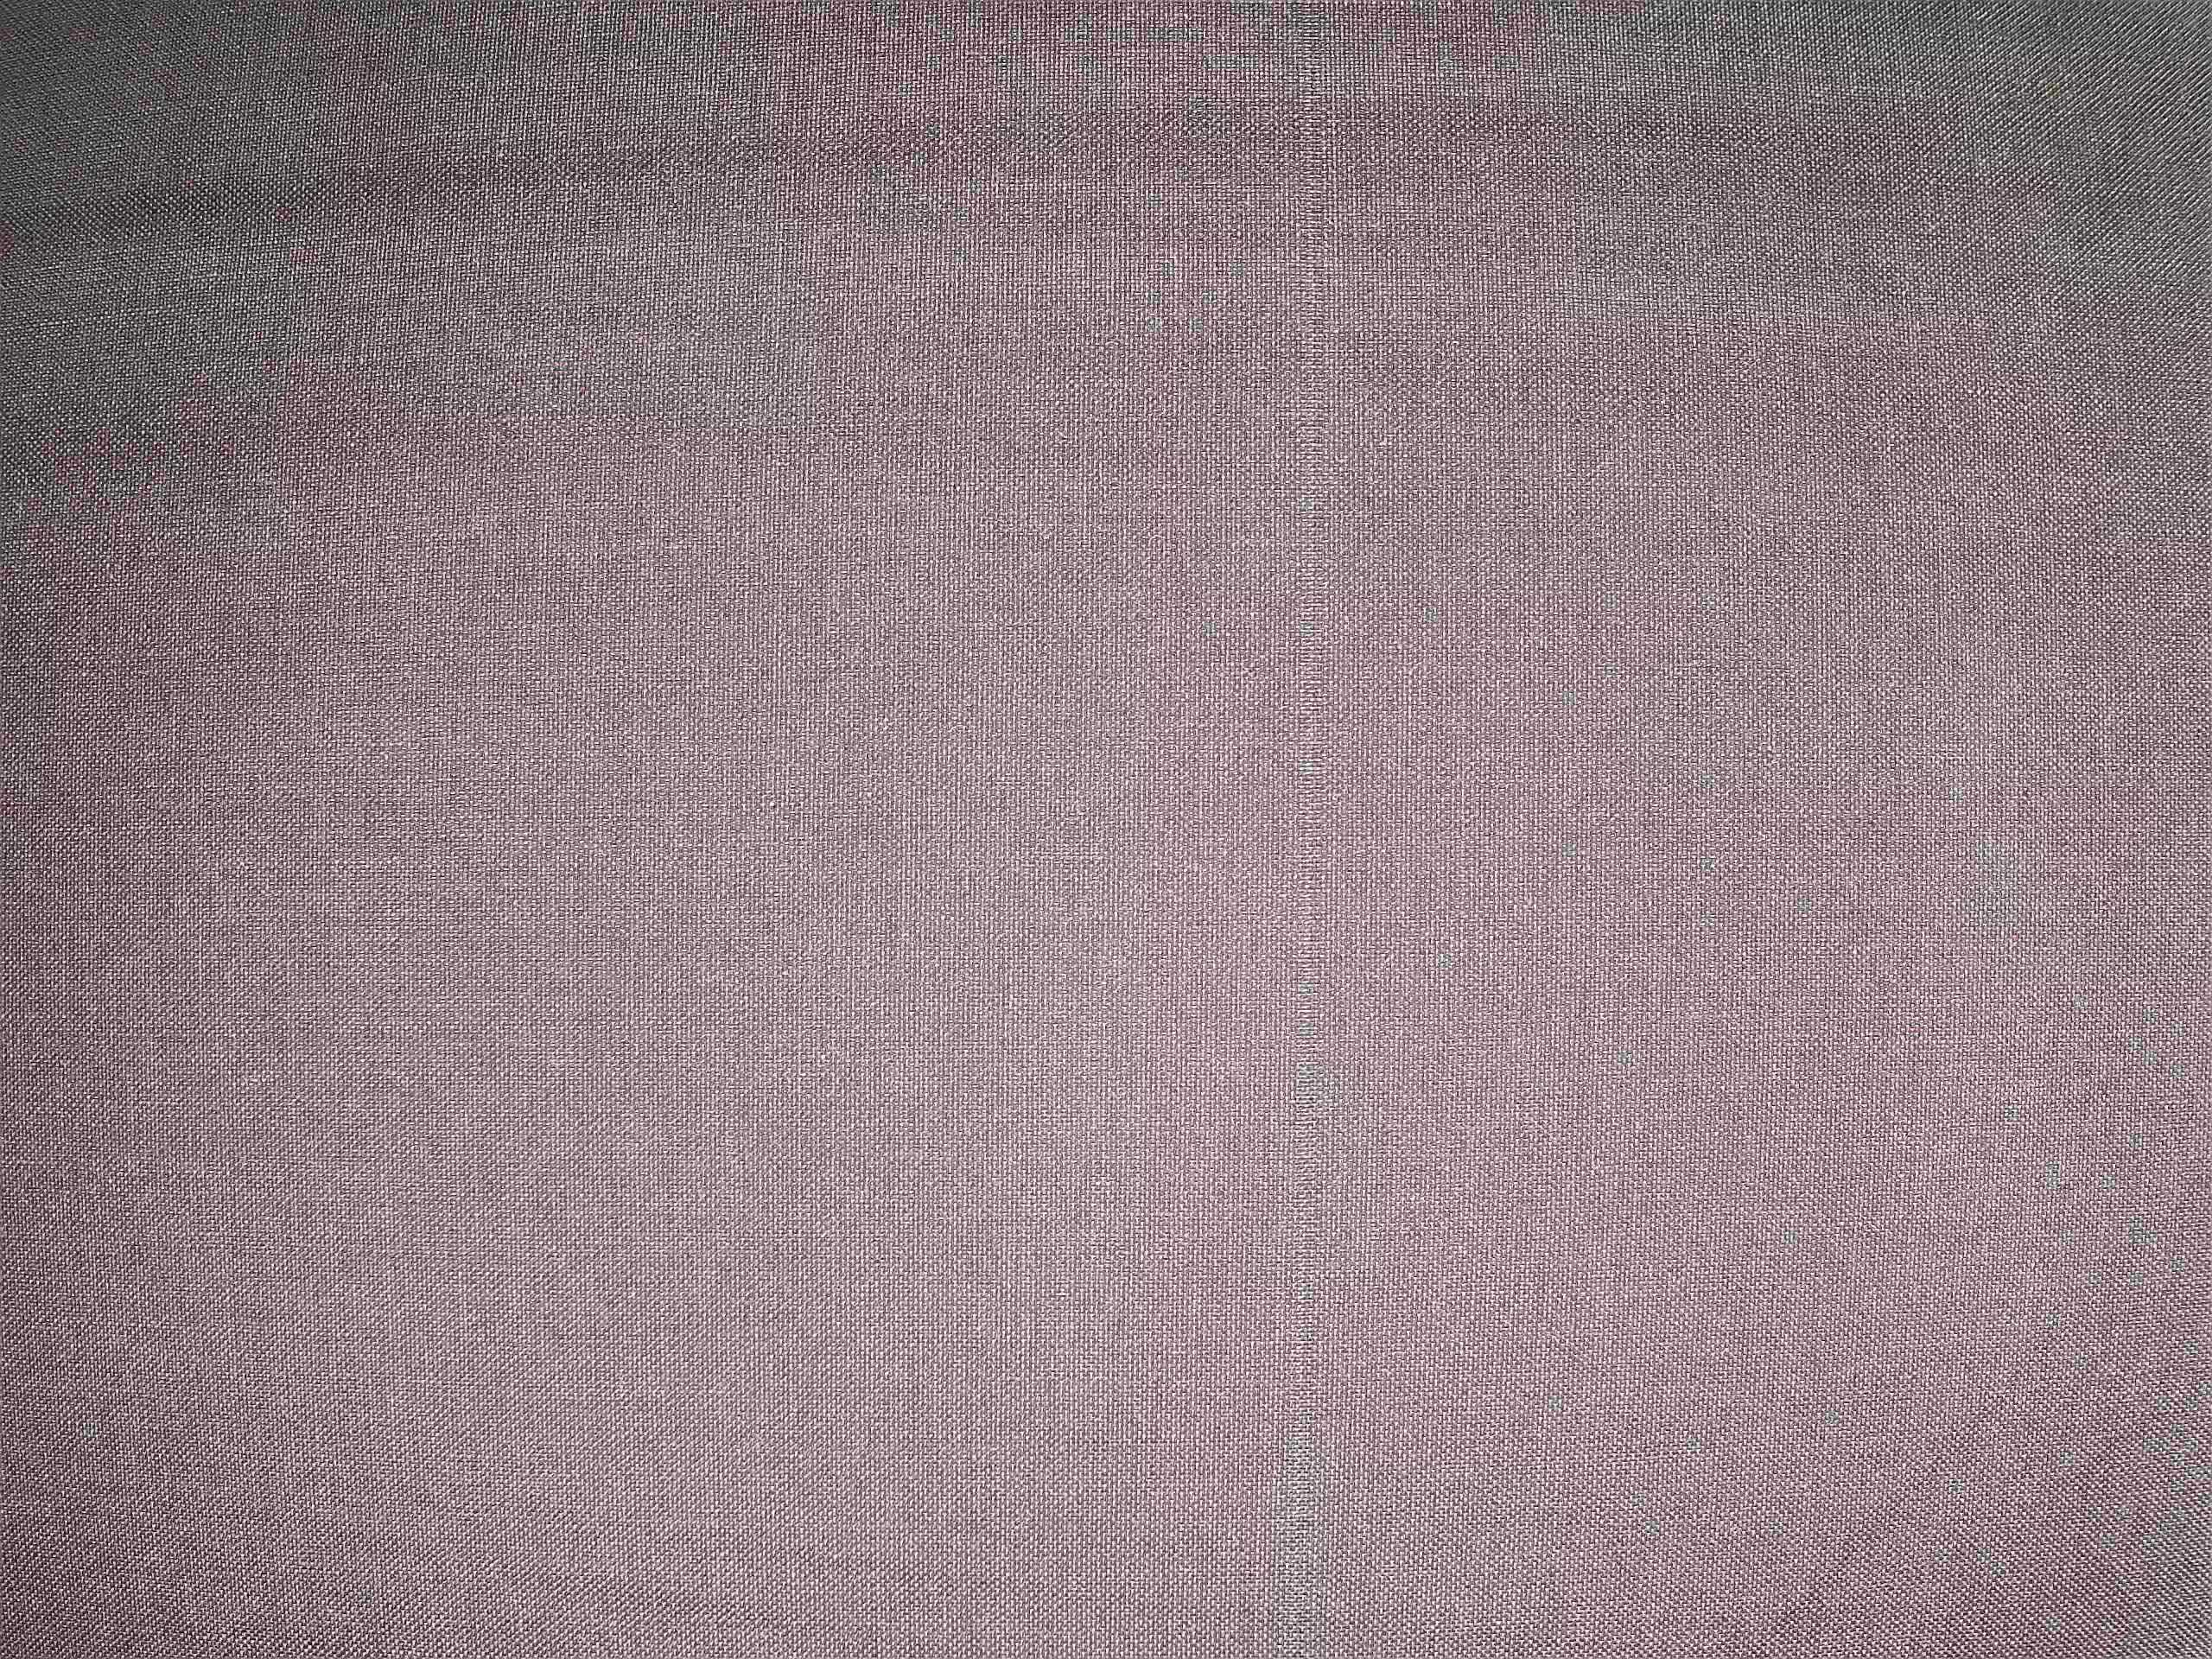lacking-warp: (1278, 12, 1343, 1626)
